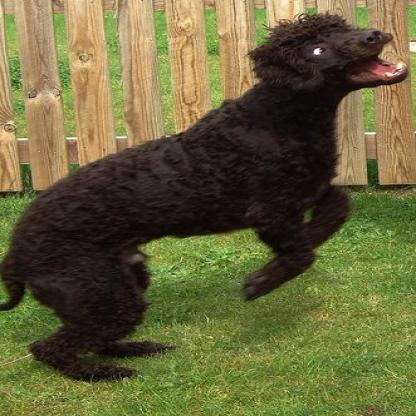Irish_water_spaniel: (1, 16, 407, 384)
